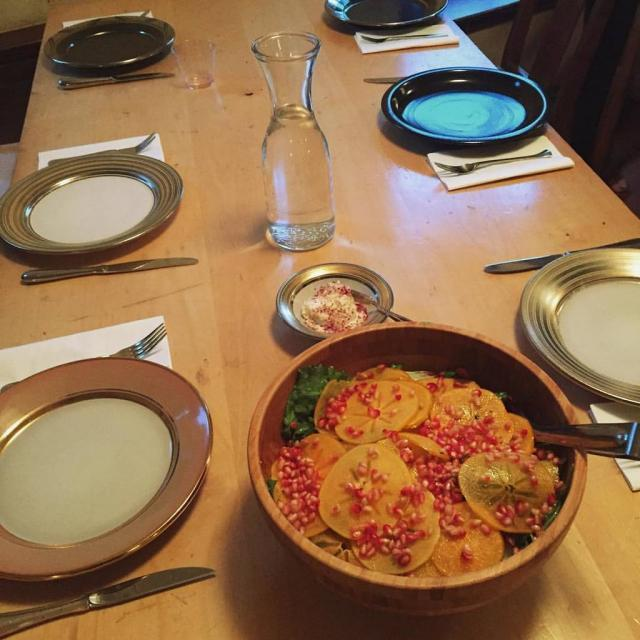ceramic plate: (258, 316, 640, 630), (0, 325, 216, 622), (348, 38, 630, 184), (0, 125, 174, 333), (495, 236, 640, 483), (18, 14, 182, 82)
